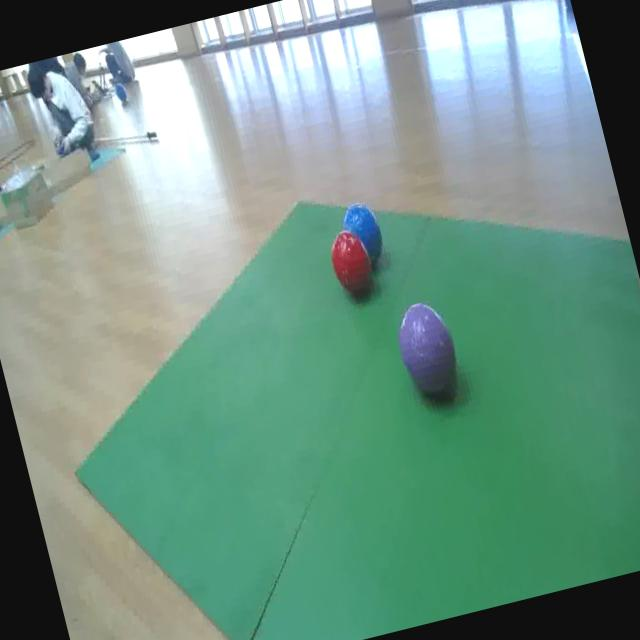blue_ball: (341, 199, 387, 269)
purple_ball: (390, 300, 464, 398)
red_ball: (325, 226, 381, 310)
